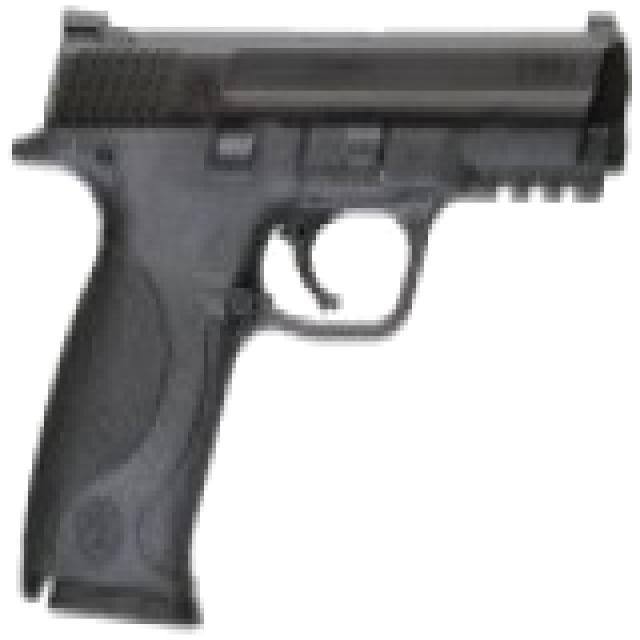pistol: (24, 0, 628, 619)
